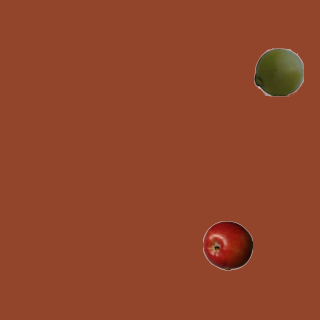Apple Braeburn: (202, 220, 252, 270)
Grape White 4: (253, 46, 303, 96)
